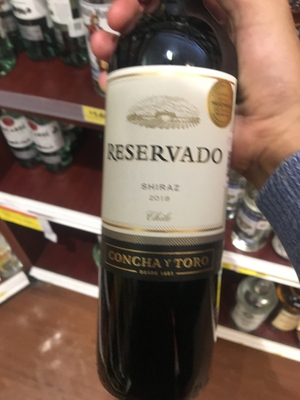reservado shiraz: (101, 34, 239, 396)
